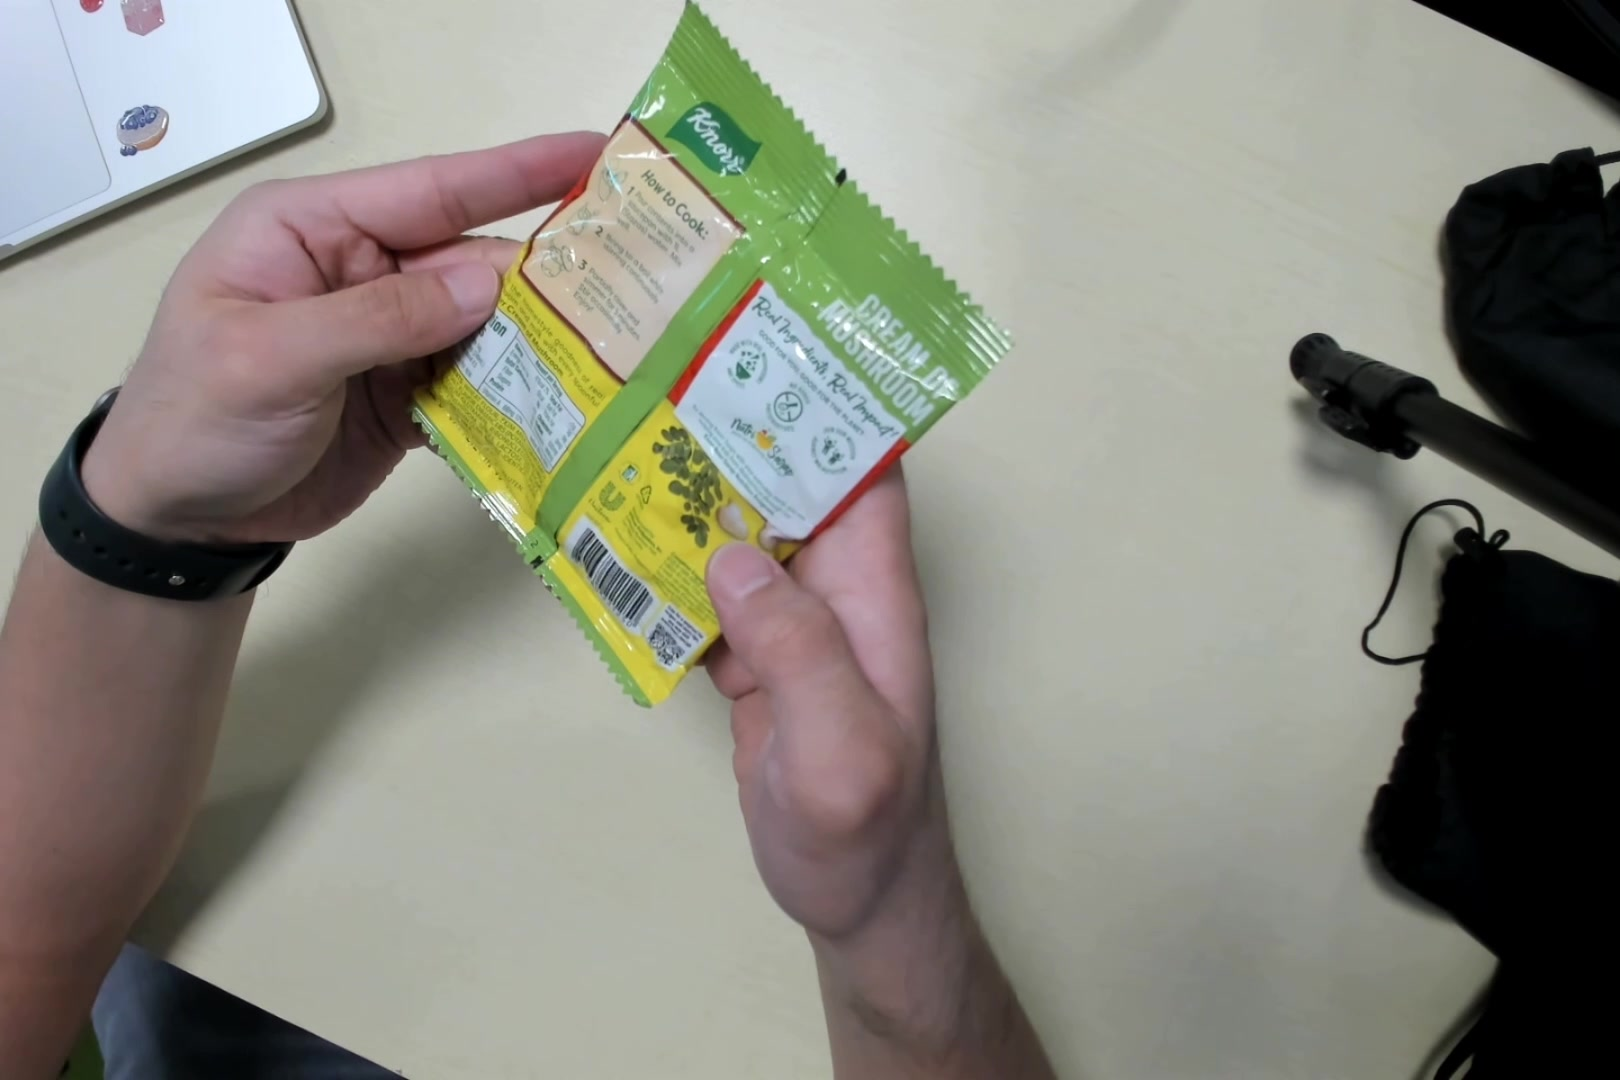OtherBakingNeeds_0-99g_NonHalal_NonHealthy: (415, 7, 1005, 715)
